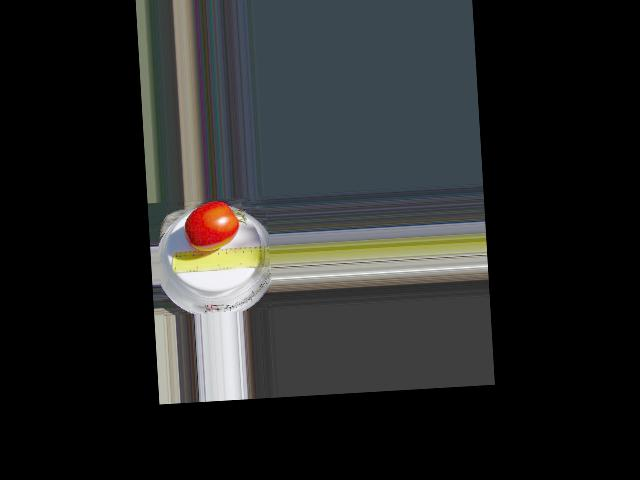tomato: (183, 199, 241, 253)
